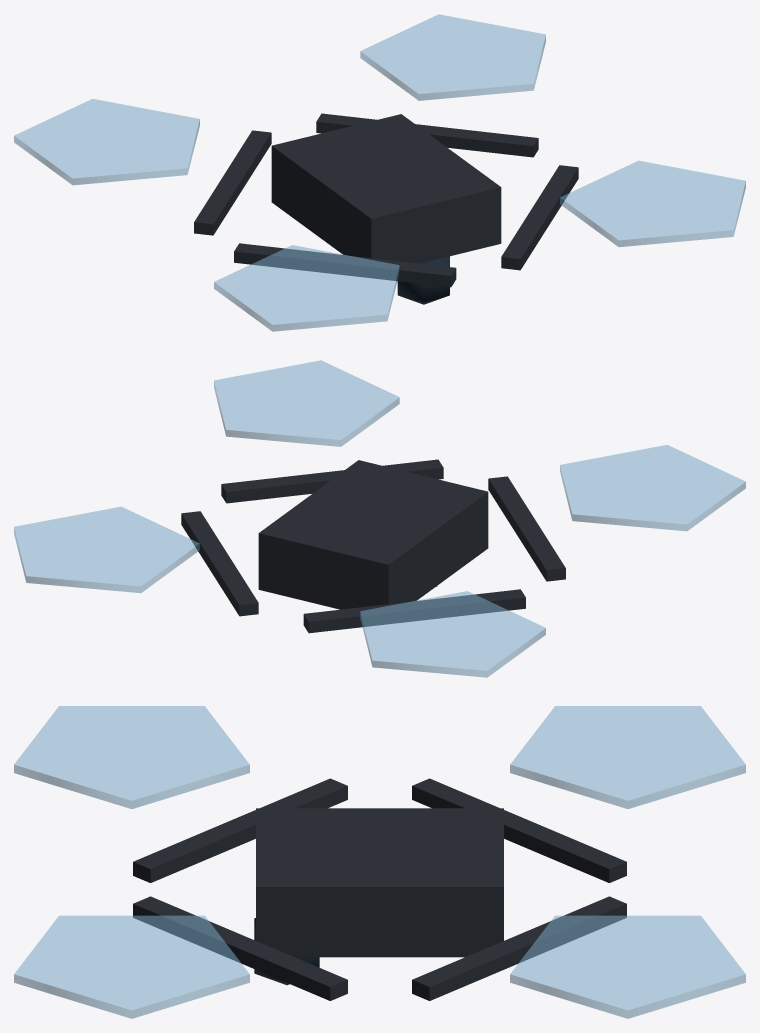
File: veh_air_drone_recon_a08_lod1.glb
3 views of the same model, one above another, from view 1: azimuth 30°, elevation 25°; view 2: azimuth 150°, elevation 25°; view 3: azimuth 270°, elevation 25° (orthographic). The views are drawn at different scales.
Parts seen in each view (by area): view 1: body, rotor_0, rotor_3, rotor_2, rotor_1; view 2: body, rotor_1, rotor_2, rotor_0, rotor_3; view 3: body, rotor_0, rotor_2, rotor_1, rotor_3.
Part boxes in pixels (box(x1,y1,x2,y2)): body: box(194, 113, 578, 304); rotor_0: box(560, 160, 745, 247); rotor_3: box(14, 99, 199, 185); rotor_2: box(360, 14, 545, 100); rotor_1: box(214, 245, 399, 331); body: box(181, 459, 565, 633); rotor_1: box(560, 445, 745, 531); rotor_2: box(14, 506, 199, 593); rotor_0: box(214, 360, 399, 446); rotor_3: box(360, 591, 545, 677); body: box(133, 778, 626, 1000); rotor_0: box(14, 915, 249, 1018); rotor_2: box(510, 915, 745, 1018); rotor_1: box(14, 706, 249, 808); rotor_3: box(510, 706, 745, 808).
Bounding box in the file's own units: 2.32 × 0.49 × 2.36.
